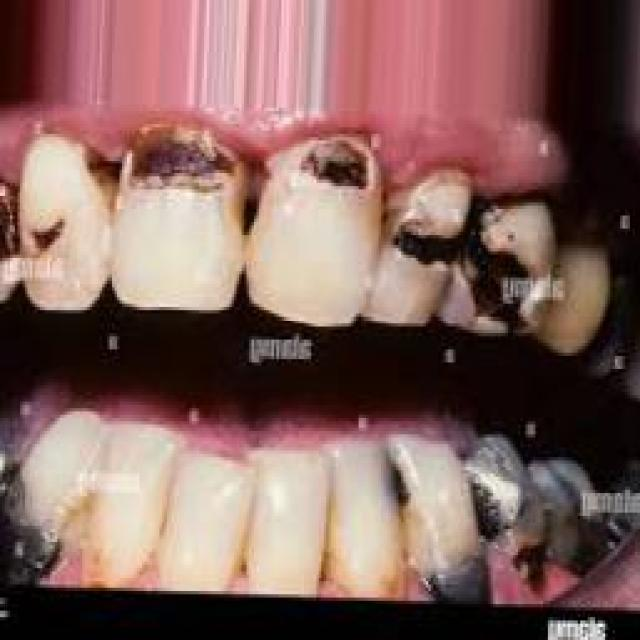caries: (113, 110, 240, 215), (460, 198, 546, 339), (380, 174, 463, 298), (292, 122, 386, 215), (363, 430, 428, 524), (501, 513, 559, 597), (222, 159, 275, 243), (24, 196, 79, 264)
